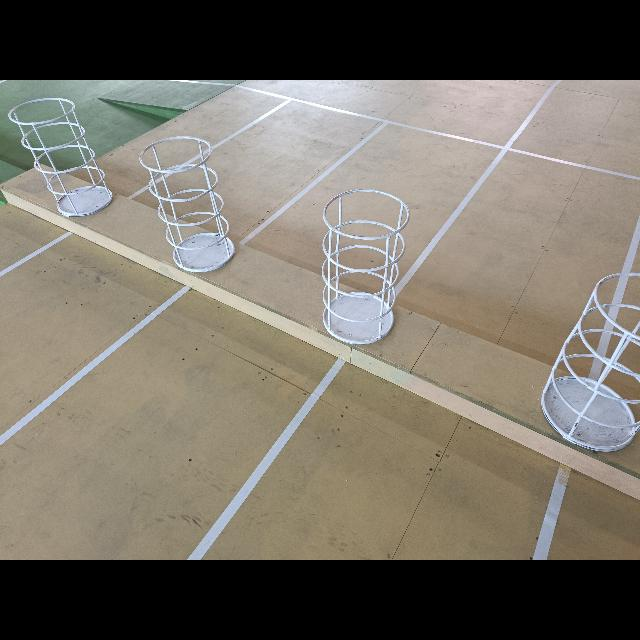S: (534, 270, 640, 457), (320, 187, 412, 349), (136, 133, 238, 276), (5, 97, 117, 219)
